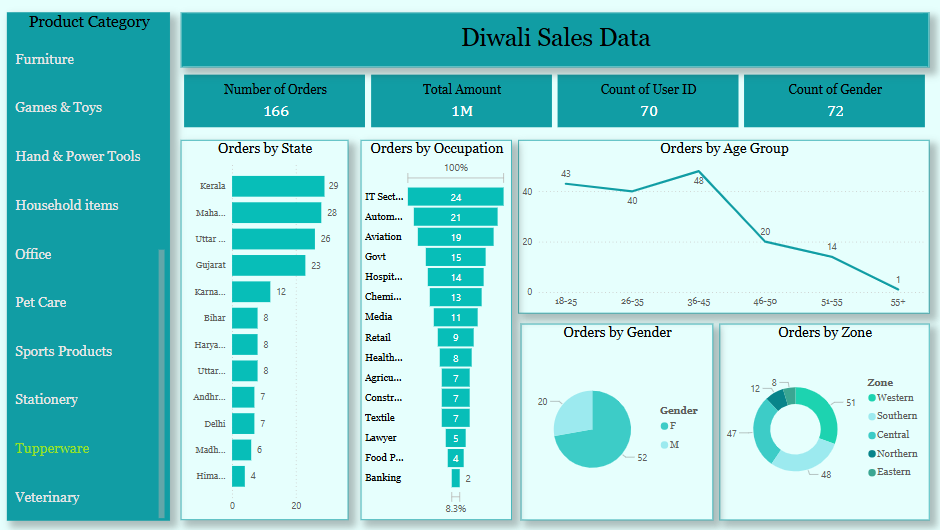

This screenshot's page, from the dashboard's own definition file:
{"tool":"powerbi","page":{"name":"Page 1","canvas":[1280,720],"ordinal":0},"visuals":[{"type":"advancedSlicerVisual","title":"Product Category","fields":{"Values":["Diwali Sales Data.Product_Category"]},"box":[13.7,16.5,220.9,688.9],"z":0},{"type":"cardVisual","fields":{"Data":["Sum(Diwali Sales Data.Orders)","Sum(Diwali Sales Data.Amount)","Count(Diwali Sales Data.User_ID)","CountNonNull(Diwali Sales Data.Gender)"]},"box":[249.7,96.6,1015.3,81.4],"z":1000},{"type":"clusteredBarChart","title":"State","fields":{"Y":["Sum(Diwali Sales Data.Orders)"],"Category":["Diwali Sales Data.State"]},"box":[249.2,189.8,227.1,515.3],"z":2000},{"type":"shape","box":[249.7,16.9,1015.3,74.6],"z":3000},{"type":"textbox","title":"Diwali Sales Data","box":[378.5,32.2,759.3,44.1],"z":4000},{"type":"lineChart","title":"Orders by Age Group","fields":{"Y":["Sum(Diwali Sales Data.Orders)"],"Category":["Diwali Sales Data.Age Group"]},"box":[707.3,189.8,557.6,235.6],"z":5000},{"type":"pieChart","title":"Orders by Gender","fields":{"Category":["Diwali Sales Data.Gender"],"Y":["CountNonNull(Diwali Sales Data.Orders)"]},"box":[710.2,439,261,266.1],"z":6000},{"type":"donutChart","title":"Orders by Zone","fields":{"Category":["Diwali Sales Data.Zone"],"Y":["Sum(Diwali Sales Data.Orders)"]},"box":[979.7,439,284.7,266.1],"z":7000},{"type":"funnel","title":"Orders by Occupation","fields":{"Category":["Diwali Sales Data.Occupation"],"Y":["Sum(Diwali Sales Data.Orders)"]},"box":[493.2,189.8,205.1,515.3],"z":8000}]}

Visuals, with their boxes in screenshot pixels (x1, y1, x2, y2), scaled from the page's 1280x720 canvas onto the 940x530 screenshot:
"Product Category" advancedSlicerVisual: pyautogui.locateOnScreen(10, 12, 172, 519)
cardVisual - Sum(Diwali Sales Data.Orders) x Sum(Diwali Sales Data.Amount): pyautogui.locateOnScreen(183, 71, 929, 131)
"State" clusteredBarChart: pyautogui.locateOnScreen(183, 140, 350, 519)
shape: pyautogui.locateOnScreen(183, 12, 929, 67)
"Diwali Sales Data" textbox: pyautogui.locateOnScreen(278, 24, 836, 56)
"Orders by Age Group" lineChart: pyautogui.locateOnScreen(519, 140, 929, 313)
"Orders by Gender" pieChart: pyautogui.locateOnScreen(522, 323, 713, 519)
"Orders by Zone" donutChart: pyautogui.locateOnScreen(719, 323, 929, 519)
"Orders by Occupation" funnel: pyautogui.locateOnScreen(362, 140, 513, 519)
